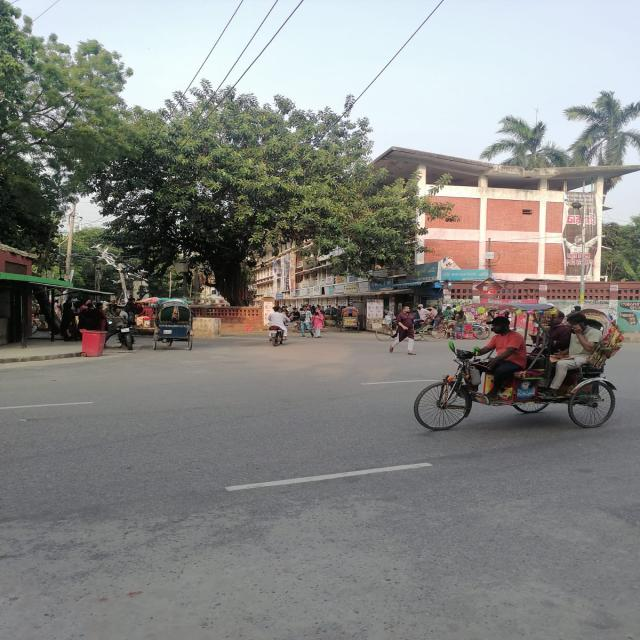person: (389, 305, 416, 355)
